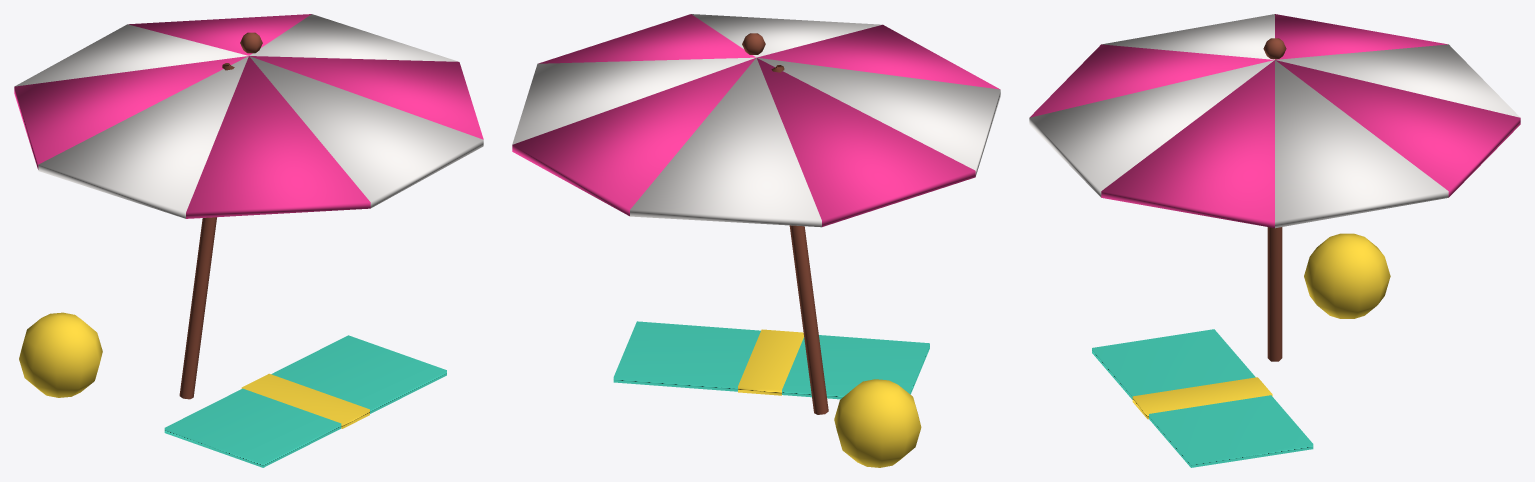
File: beach_umbrella.glb
The picture shows the model from 3 angles, left to right: view 1: azimuth 30°, elevation 25°; view 2: azimuth 150°, elevation 25°; view 3: azimuth 270°, elevation 25°; orthographic projection. The views are drawn at different scales.
Parts seen in each view (by area): view 1: BeachUmbrella; view 2: BeachUmbrella; view 3: BeachUmbrella.
Part boxes in pixels (x1,y1,x2,y2): BeachUmbrella: (14, 14, 483, 467); BeachUmbrella: (512, 14, 1000, 467); BeachUmbrella: (1029, 14, 1520, 467).
Size of the model in its own units: 3.4 by 2.7 by 3.4.
